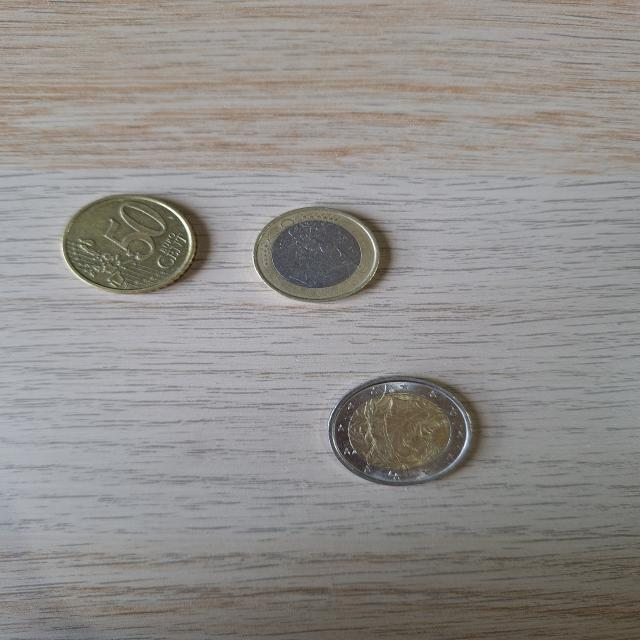1e: (251, 205, 383, 303)
2e: (327, 375, 480, 487)
50c: (61, 194, 198, 296)
